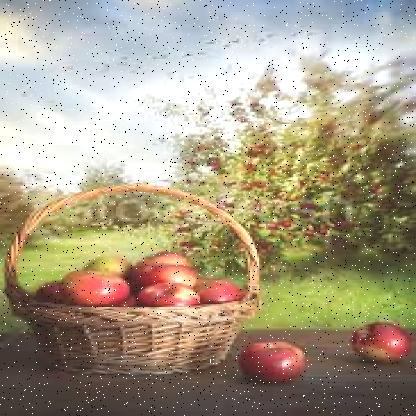apple: (230, 339, 312, 375), (66, 266, 132, 309), (338, 323, 414, 358), (134, 280, 204, 310), (188, 275, 236, 302), (136, 252, 193, 274), (84, 256, 130, 282), (148, 265, 193, 287)
